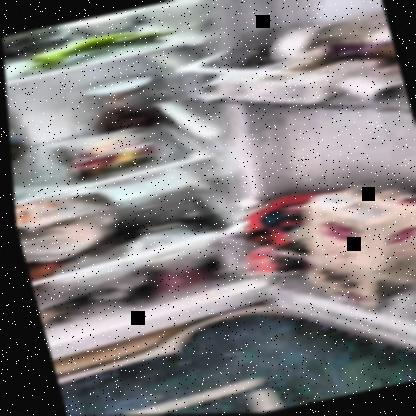green_chillies: (24, 21, 166, 69)
milk: (299, 177, 415, 293)
